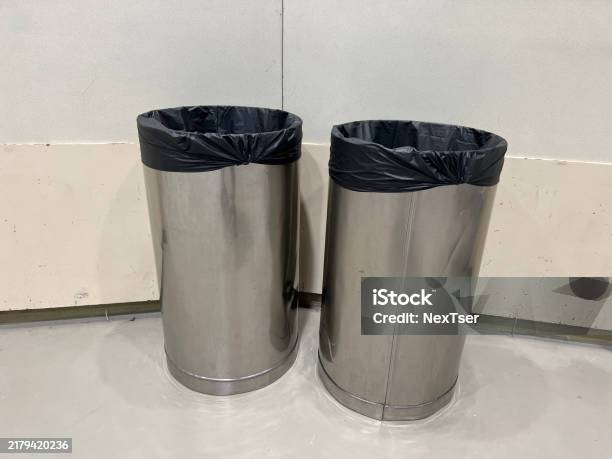bin_empty: (318, 120, 507, 421), (137, 106, 301, 394)
